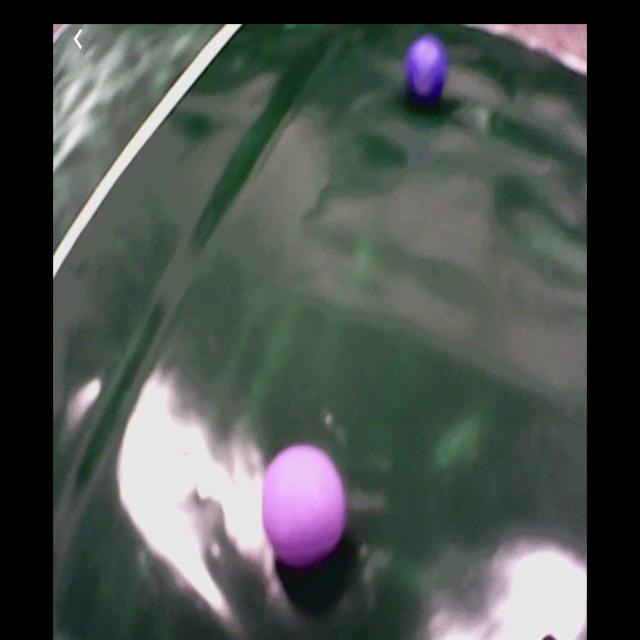ball: (263, 443, 345, 575), (406, 36, 448, 109)
